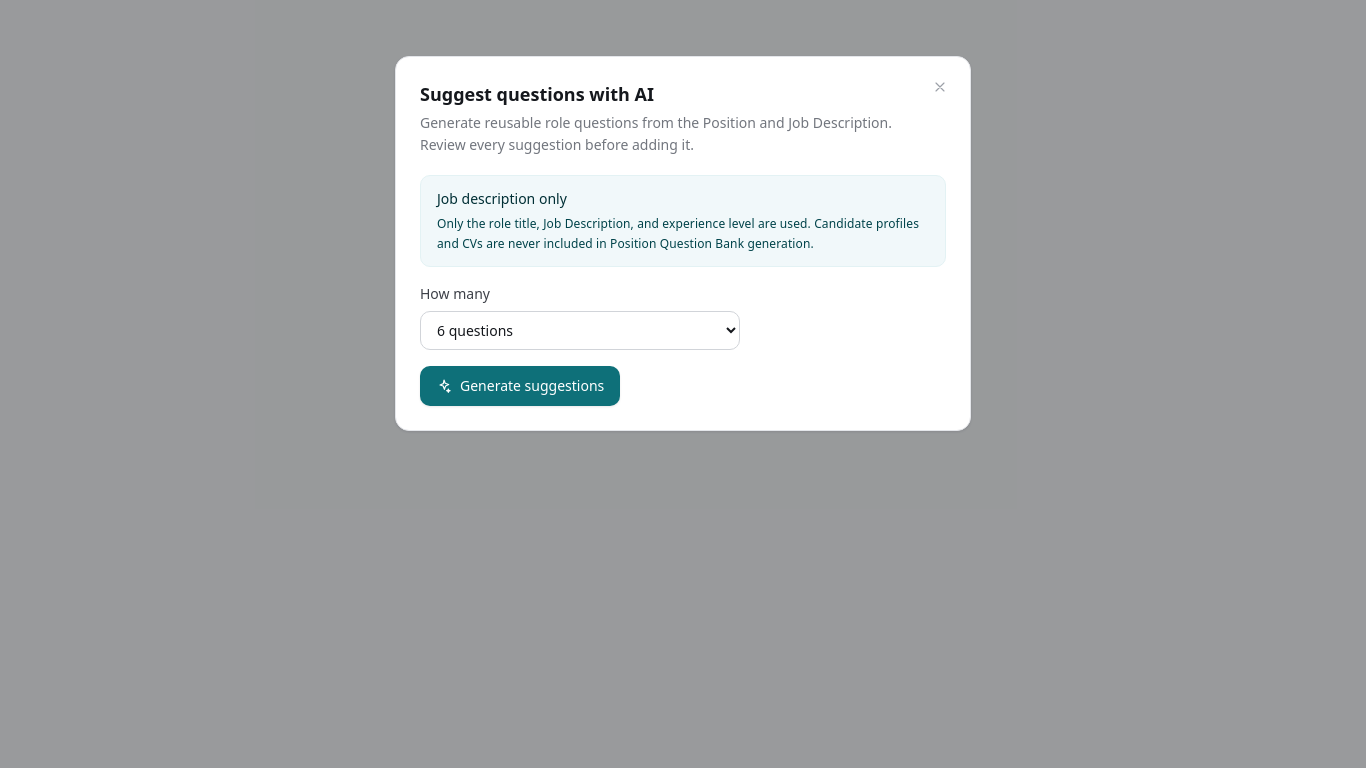
Test: SuggestQuestionsModal › generates suggestions and shows them for review
The width and height of the screenshot is (1366, 768).
Step 1. Click the button "Generate suggestions" → [520, 386], box left=420, top=366, right=620, bottom=406
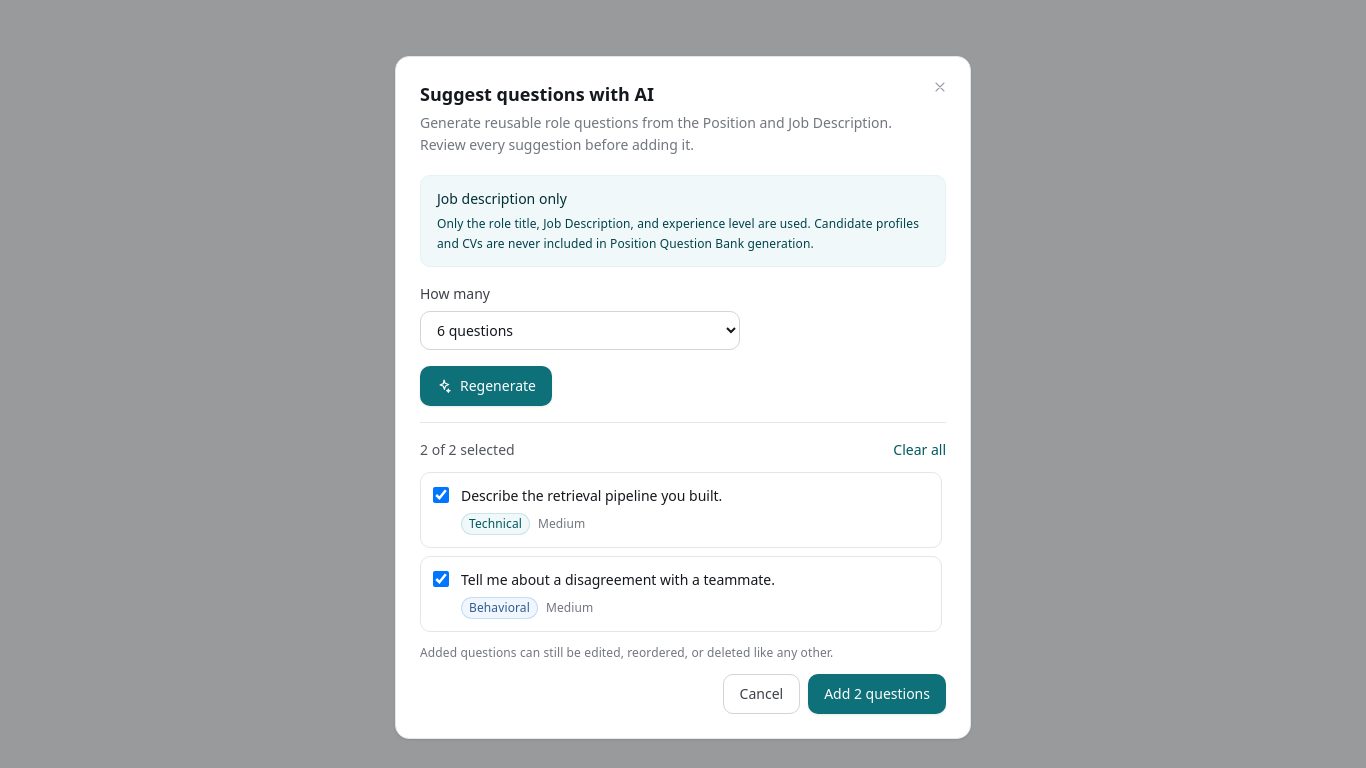
Now the text "Describe the retrieval pipeline you built." is shown, box left=461, top=485, right=722, bottom=507
Now the text "Tell me about a disagreement with a teammate." is shown, box left=461, top=569, right=775, bottom=591
